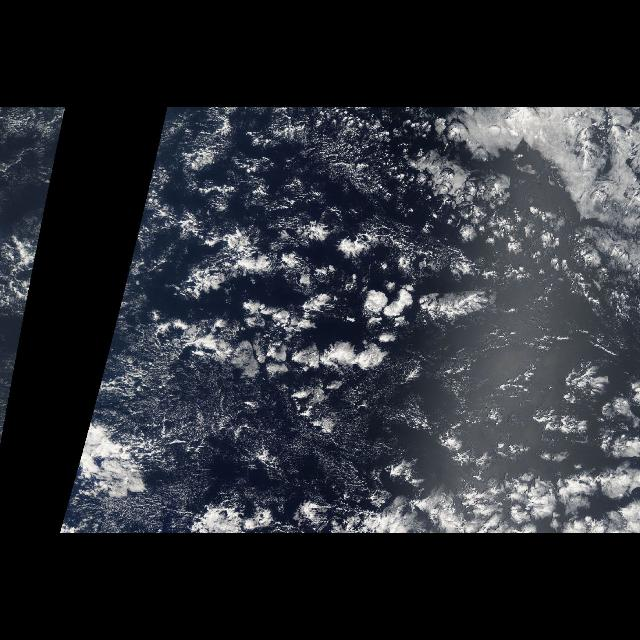Flower: (140, 117, 640, 533)
Sugar: (94, 360, 372, 484)
